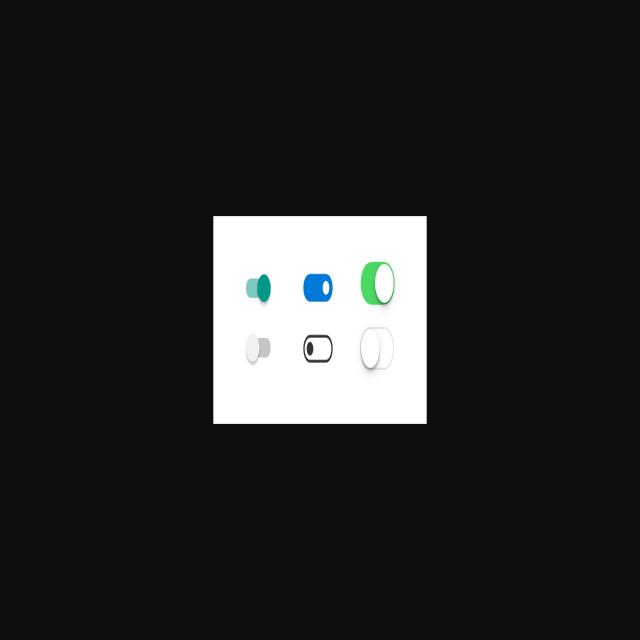toggle: (360, 260, 396, 308), (359, 324, 395, 372), (302, 269, 334, 303), (304, 330, 334, 365), (244, 270, 272, 304), (244, 331, 272, 364)
